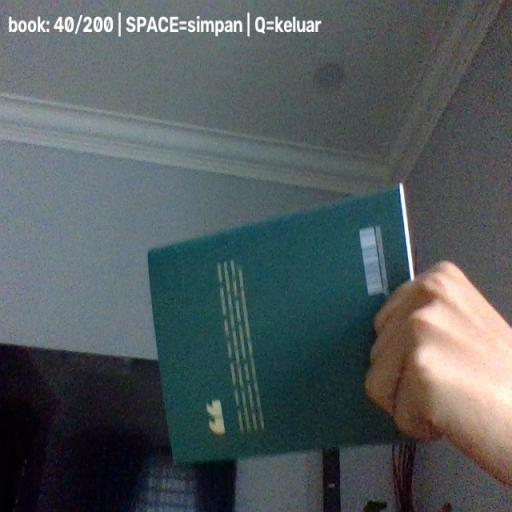Book: (147, 184, 420, 468)
